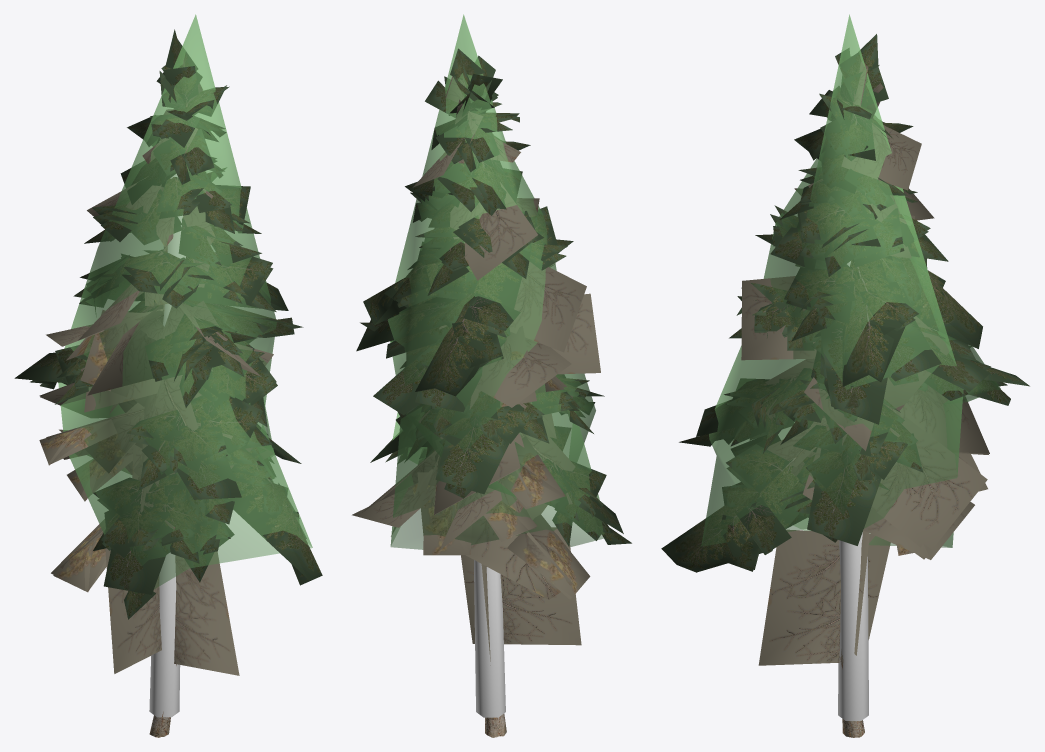
The model's file is tree_douglasfir_small_a.dae.
3 renders of one model, left to right at view 1: azimuth 30°, elevation 25°; view 2: azimuth 150°, elevation 25°; view 3: azimuth 270°, elevation 25°, orthographic. The views are drawn at different scales.
Parts seen in each view (by area): view 1: Colmesh_small_a-1, tree_douglasfir_small_a_a1000, tree_douglasfir_small_a_a800, tree_douglasfir_small_a_a550; view 2: Colmesh_small_a-1, tree_douglasfir_small_a_a550, tree_douglasfir_small_a_a800, tree_douglasfir_small_a_a1000; view 3: Colmesh_small_a-1, tree_douglasfir_small_a_a1000, tree_douglasfir_small_a_a800, tree_douglasfir_small_a_a550.
Part boxes in pixels (bbox=[...]): Colmesh_small_a-1: bbox=[58, 14, 312, 717]; tree_douglasfir_small_a_a1000: bbox=[30, 29, 322, 737]; tree_douglasfir_small_a_a800: bbox=[40, 39, 321, 737]; tree_douglasfir_small_a_a550: bbox=[14, 68, 317, 735]; Colmesh_small_a-1: bbox=[388, 14, 604, 717]; tree_douglasfir_small_a_a550: bbox=[356, 56, 623, 737]; tree_douglasfir_small_a_a800: bbox=[372, 48, 612, 737]; tree_douglasfir_small_a_a1000: bbox=[352, 56, 631, 737]; Colmesh_small_a-1: bbox=[701, 14, 1000, 720]; tree_douglasfir_small_a_a1000: bbox=[661, 34, 1010, 737]; tree_douglasfir_small_a_a800: bbox=[662, 67, 1029, 737]; tree_douglasfir_small_a_a550: bbox=[735, 59, 1029, 657].
Bounding box in the file's own units: 4.62 × 6.28 × 13.83.
